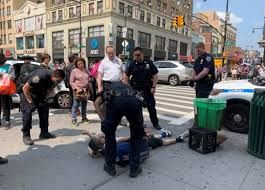10+: (1, 17, 265, 181)
down: (77, 119, 192, 158)
